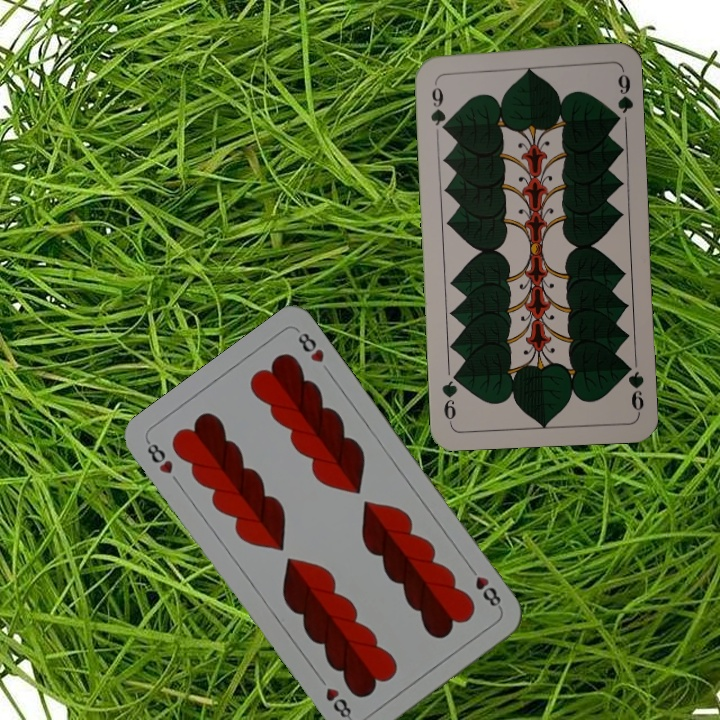G9: (620, 357, 647, 416), (426, 76, 450, 135)
H8: (464, 561, 504, 612), (142, 437, 176, 477)
